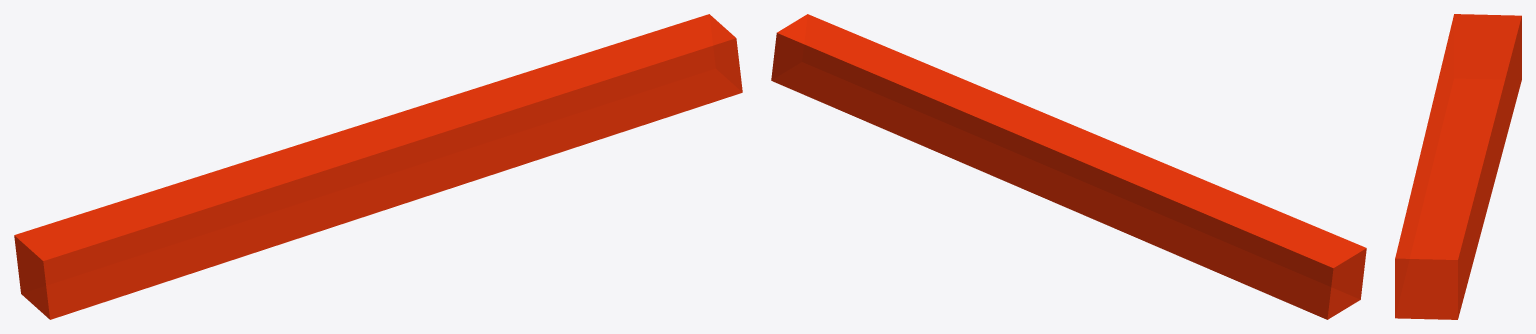
The model's file is Event_421364160_EErechit_30.fbx.
The picture shows the model from 3 angles, left to right: view 1: azimuth 30°, elevation 25°; view 2: azimuth 150°, elevation 25°; view 3: azimuth 270°, elevation 25°; orthographic projection. The views are drawn at different scales.
Visible parts, largest first — view 1: Model; view 2: Model; view 3: Model.
Boxes of the visible parts, x1=… form: Model: x1=14, y1=14, x2=742, y2=319; Model: x1=771, y1=14, x2=1366, y2=319; Model: x1=1395, y1=14, x2=1521, y2=319.
Bounding box in the file's own units: 0.9073 × 0.1842 × 0.146.
